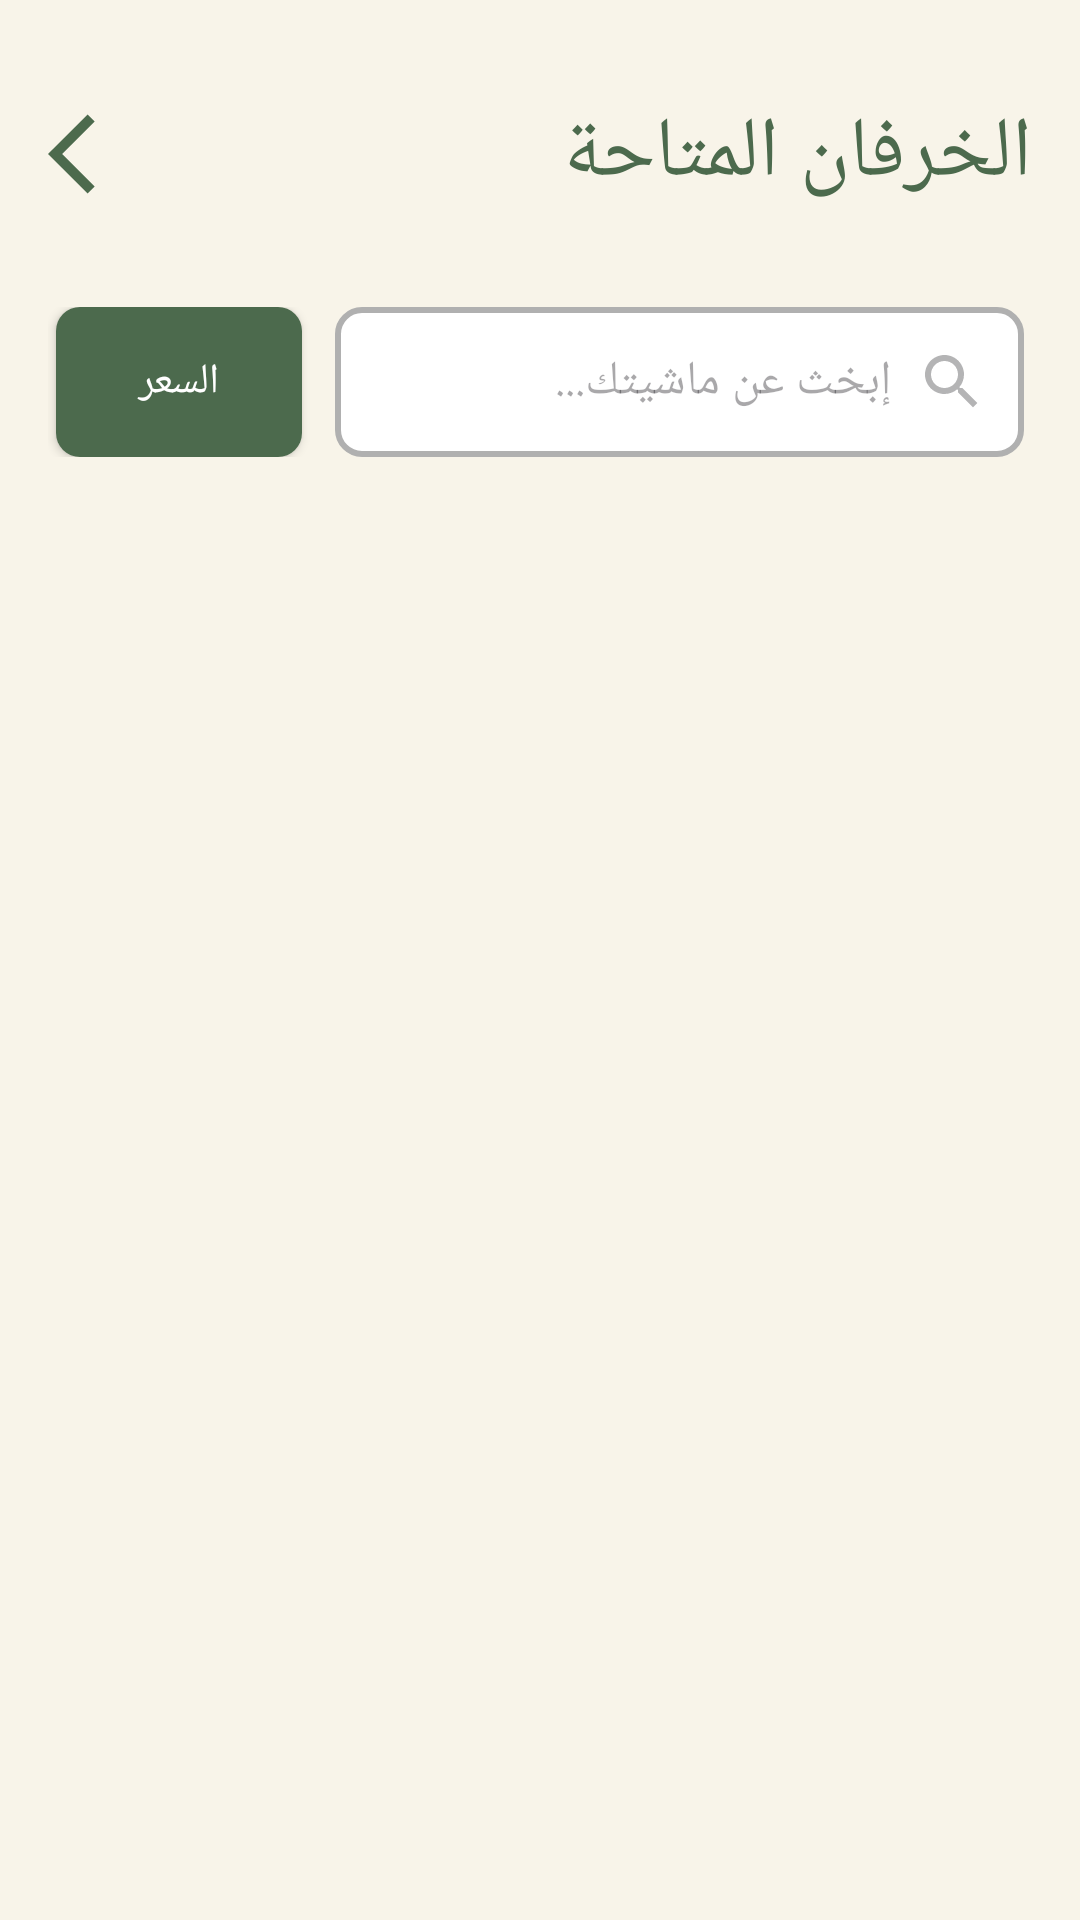

Screen size 1080px×1920px. Icon name, then its center in pixels as point (x, y):
arrow: point (71, 154)
